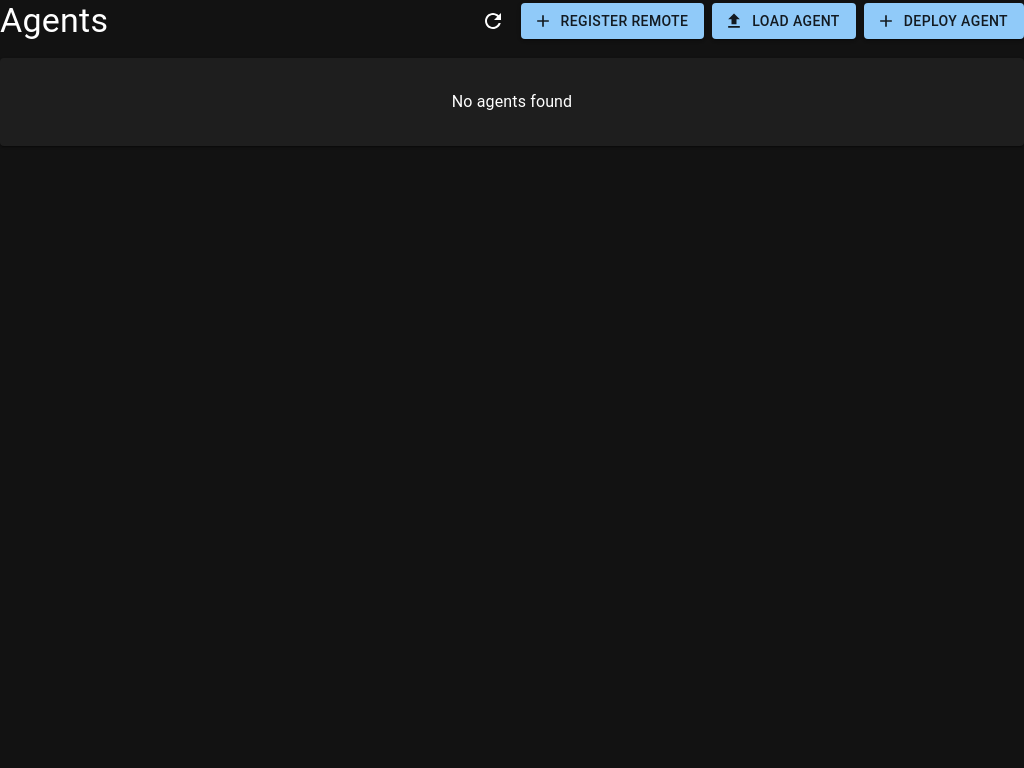
Test: AgentsPage › Load Agent › Given load dialog open and required fields empty, Then Load button is disabled
Expected: the text "No agents found" is shown, [452, 90, 572, 114]
Click the button "Load Agent" at (784, 21), box [712, 3, 856, 39]
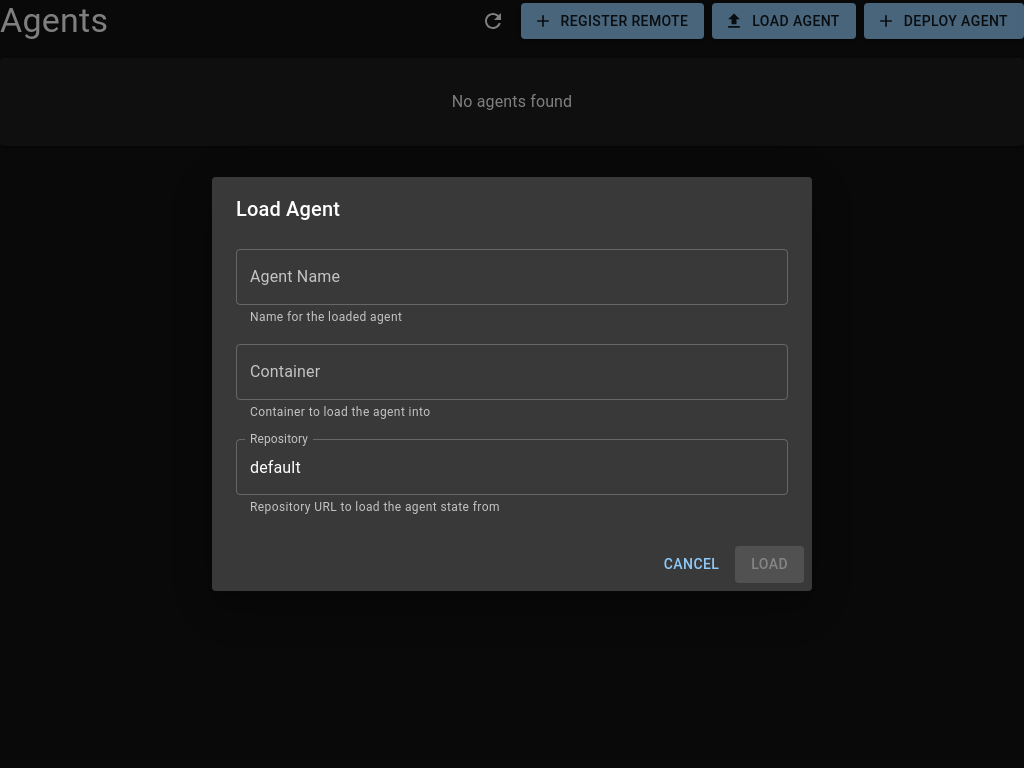
Now the field labelled "Agent Name" is shown, box [236, 249, 788, 305]
Now the button "Load" is disabled, box [735, 546, 804, 583]
